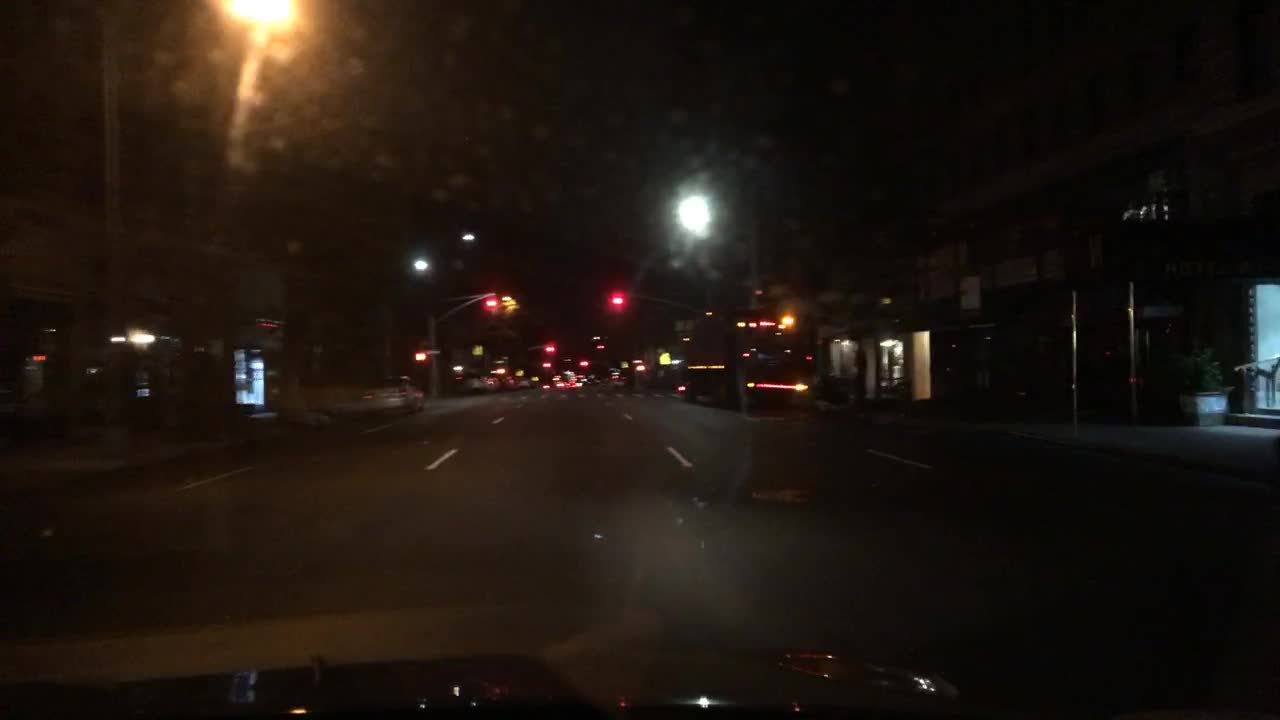car: (356, 374, 425, 419), (461, 375, 486, 391), (541, 378, 565, 391), (516, 376, 539, 389), (482, 376, 501, 390), (611, 373, 625, 388), (501, 378, 517, 391), (565, 374, 578, 388), (577, 375, 591, 385), (587, 374, 600, 383)
traffic light: (609, 293, 625, 310), (781, 311, 793, 329), (414, 349, 432, 360), (483, 295, 495, 309), (595, 341, 610, 351), (541, 360, 556, 370), (544, 344, 556, 354), (580, 357, 590, 367)
traffic sign: (957, 276, 981, 307), (656, 351, 671, 365), (471, 343, 482, 356), (618, 358, 630, 368), (513, 367, 525, 376)
truck: (675, 309, 810, 412)
